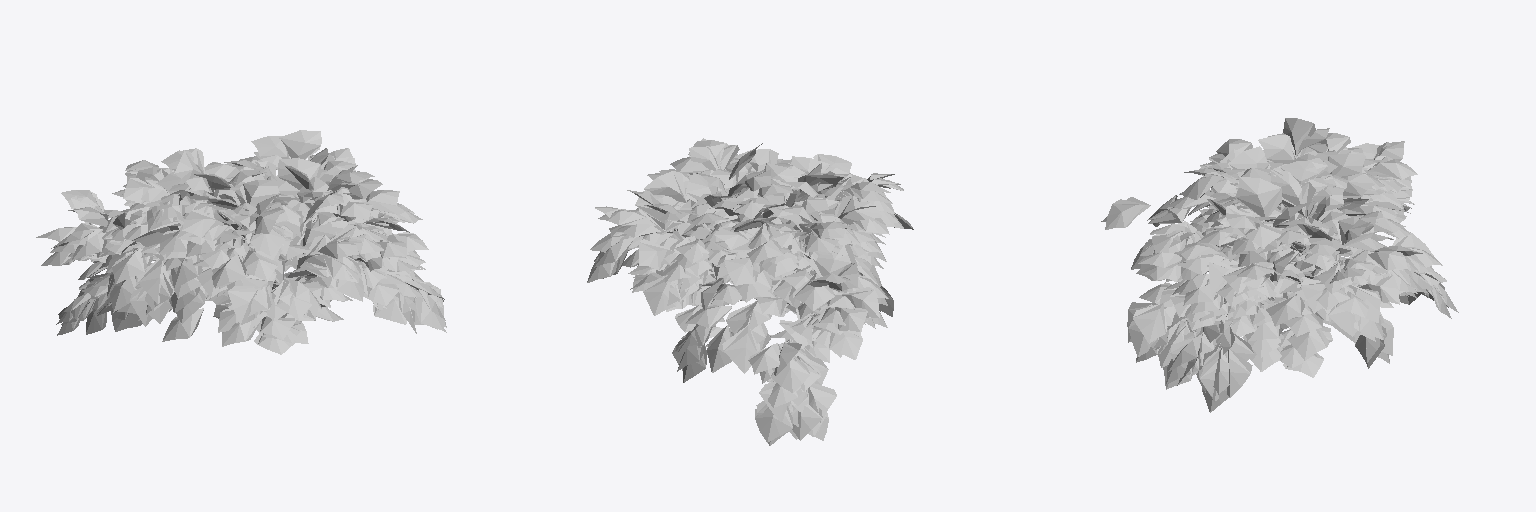
Rendered from treeLeaves.obj.
The picture shows the model from 3 angles: view 1: azimuth 30°, elevation 25°; view 2: azimuth 150°, elevation 25°; view 3: azimuth 270°, elevation 25°; orthographic projection.
Visible parts, largest first — view 1: polySurface1.001_Untitled.001; view 2: polySurface1.001_Untitled.001; view 3: polySurface1.001_Untitled.001.
Boxes of the visible parts, box(x1,y1,x2,y2) form: polySurface1.001_Untitled.001: box(36, 130, 446, 354); polySurface1.001_Untitled.001: box(587, 138, 913, 445); polySurface1.001_Untitled.001: box(1101, 118, 1458, 412).
Size of the model in its own units: 7.45 by 4.77 by 7.27.